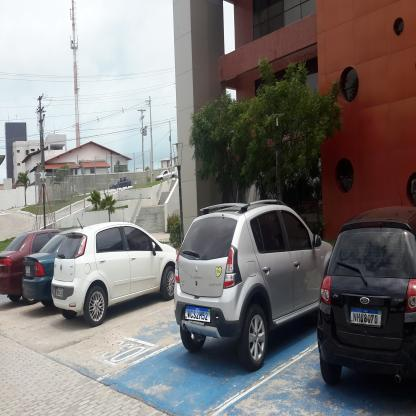PlacaM: (350, 307, 382, 327), (185, 305, 211, 323)
